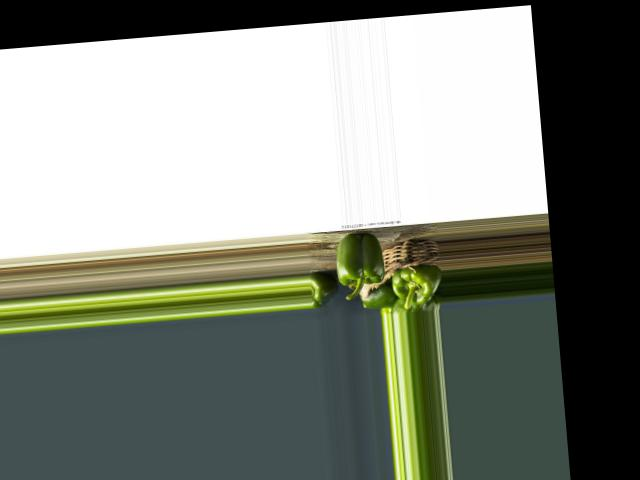bell_pepper: (309, 277, 330, 308)
